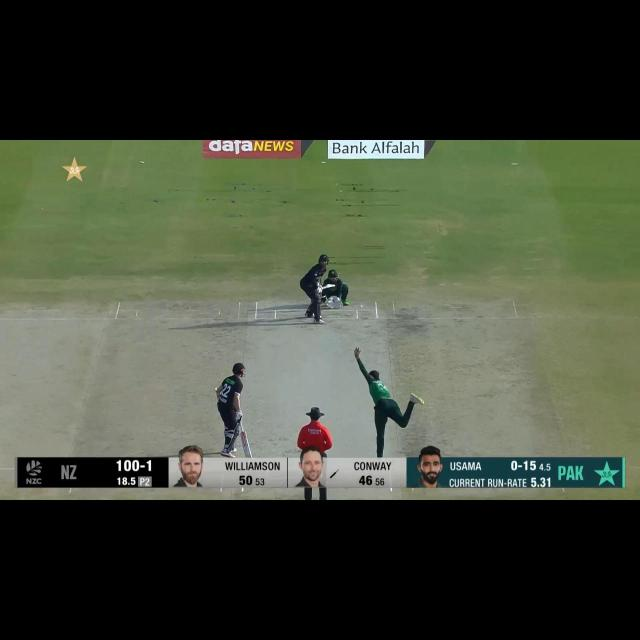bat: (238, 427, 255, 456), (316, 283, 338, 289)
toe: (243, 451, 253, 458), (332, 283, 336, 287)
